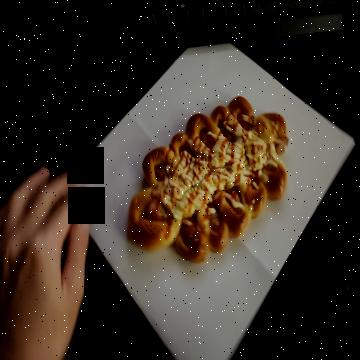pizza_bread: (128, 97, 289, 260)
